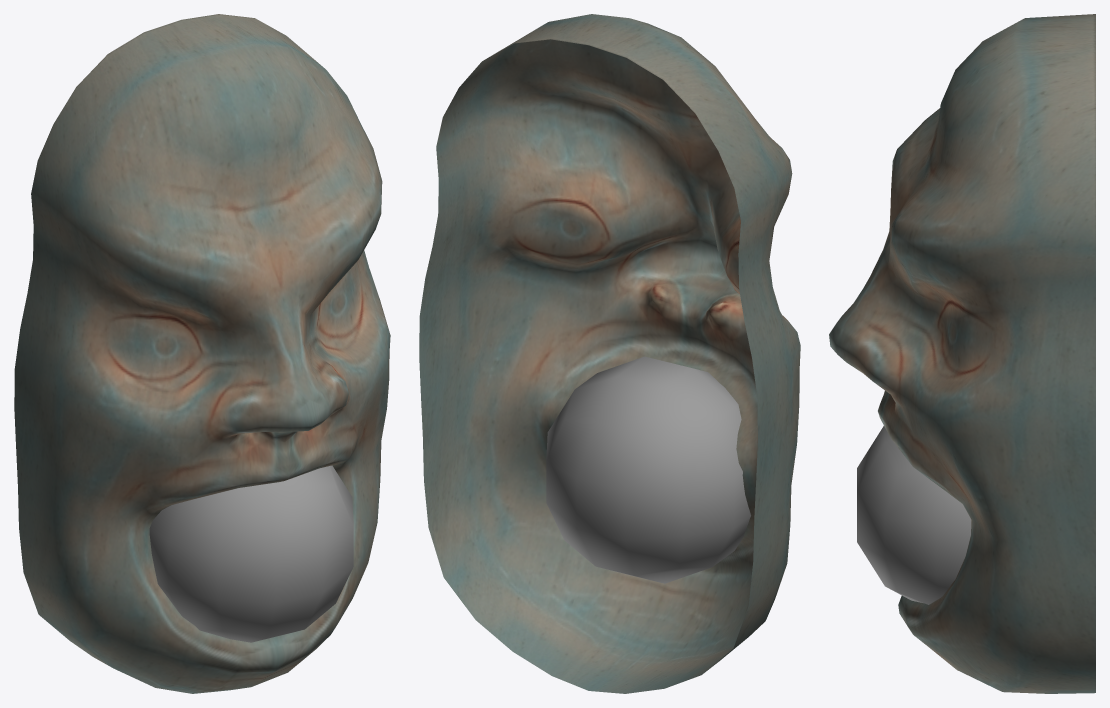
Rendered from MetalFace.FBX.
The picture shows the model from 3 angles, left to right: view 1: azimuth 30°, elevation 25°; view 2: azimuth 150°, elevation 25°; view 3: azimuth 270°, elevation 25°; orthographic projection.
Visible parts, largest first — view 1: MetalFace, Sphere; view 2: MetalFace, Sphere; view 3: MetalFace, Sphere.
Boxes of the visible parts, box(x1,y1,x2,y2) form: MetalFace: box(14, 14, 390, 693); Sphere: box(149, 465, 353, 642); MetalFace: box(419, 14, 800, 693); Sphere: box(546, 356, 750, 583); MetalFace: box(829, 14, 1095, 693); Sphere: box(857, 426, 971, 604).
Size of the model in its own units: 51.18 by 93.38 by 35.08.
